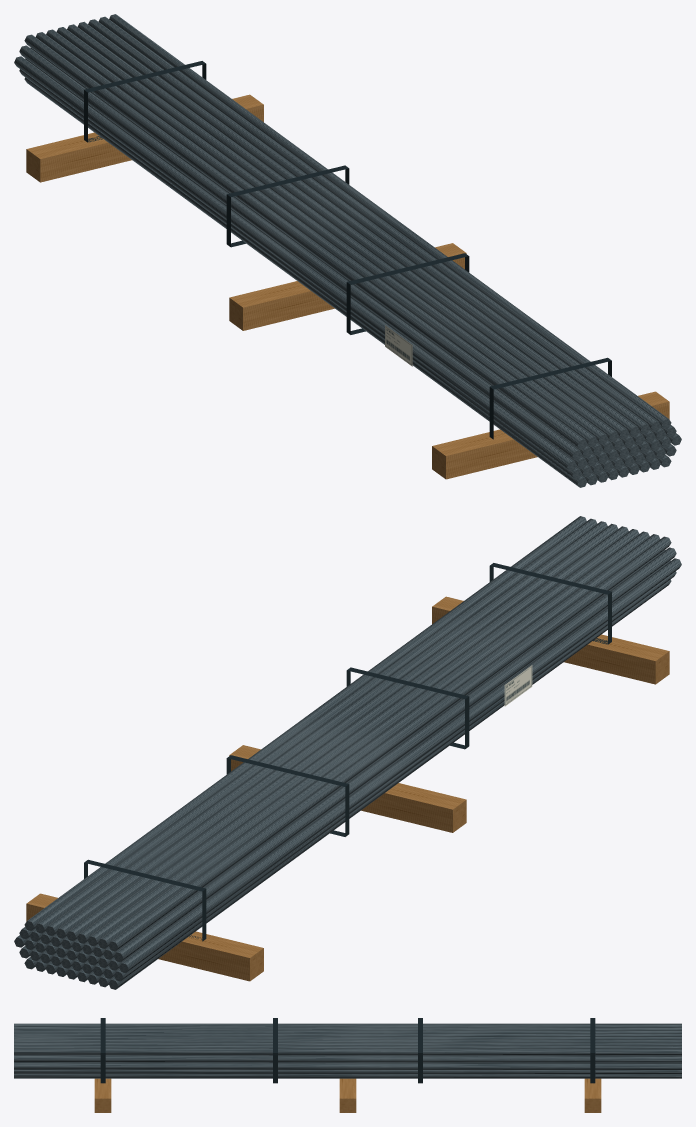
File: rebar_bundle.glb
The picture shows the model from 3 angles, top to bottom: view 1: azimuth 30°, elevation 25°; view 2: azimuth 150°, elevation 25°; view 3: azimuth 270°, elevation 25°; orthographic projection. The views are drawn at different scales.
Parts seen in each view (by area): view 1: Mill-scale steel, Pine dunnage, Steel banding; view 2: Mill-scale steel, Pine dunnage, Steel banding; view 3: Mill-scale steel, Pine dunnage, Steel banding.
Boxes of the visible parts, x1,y1,x2,y2 form: Mill-scale steel: (14,14,681,487); Pine dunnage: (26,94,669,479); Steel banding: (84,61,611,439); Mill-scale steel: (14,516,681,989); Pine dunnage: (26,596,669,981); Steel banding: (84,563,611,941); Mill-scale steel: (14,1023,681,1078); Pine dunnage: (94,1078,601,1112); Steel banding: (100,1018,595,1083).
Size of the model in its own units: 1.4 by 0.44 by 6.
4 materials, 3 textured.
